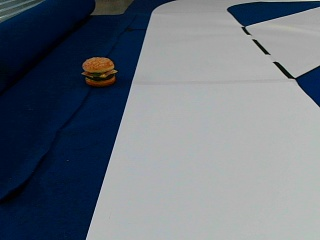burger: (81, 55, 117, 86)
